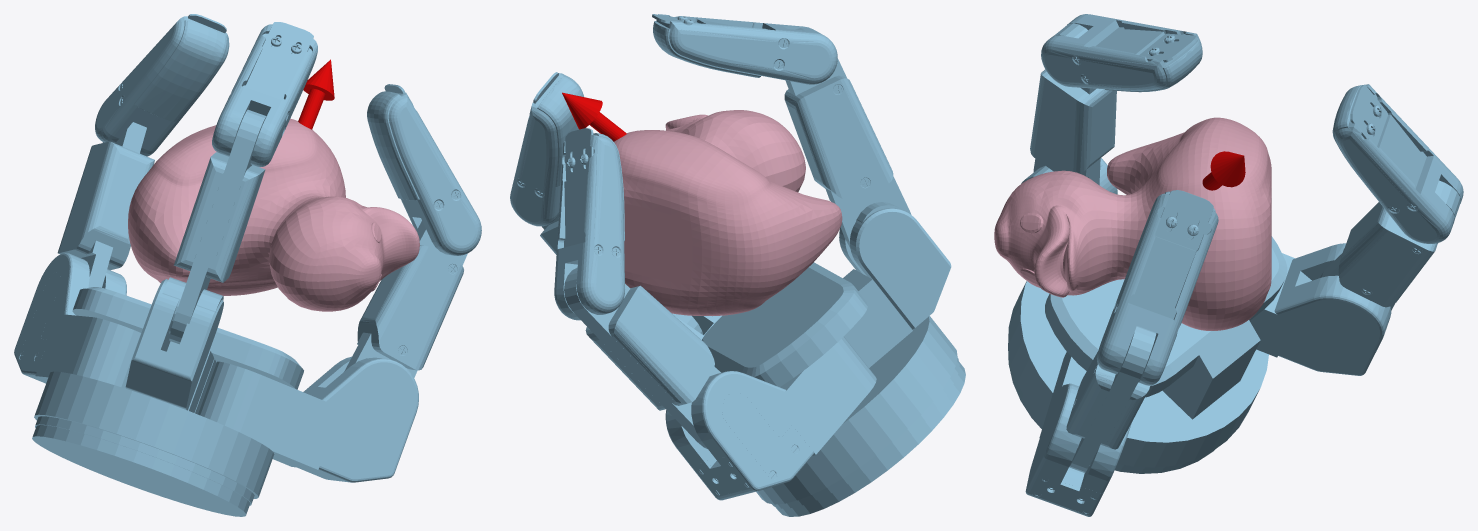
3 views of the same model, side by side, from view 1: azimuth 30°, elevation 25°; view 2: azimuth 150°, elevation 25°; view 3: azimuth 270°, elevation 25° (orthographic). The views are drawn at different scales.
Visible parts, largest first — view 1: world, rubber_duck.stl; view 2: world, rubber_duck.stl; view 3: world, rubber_duck.stl.
Boxes of the visible parts, box(x1,y1,x2,y2) form: world: box(14, 14, 481, 516); rubber_duck.stl: box(128, 118, 419, 311); world: box(510, 14, 965, 516); rubber_duck.stl: box(614, 110, 842, 316); world: box(1008, 14, 1463, 516); rubber_duck.stl: box(994, 117, 1271, 330).
Bounding box in the file's own units: 0.1807 × 0.1854 × 0.1623.
